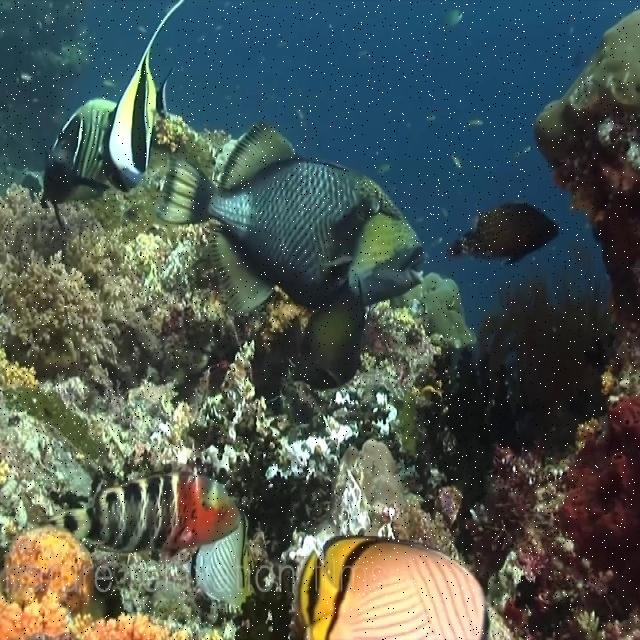fish: (154, 119, 428, 391), (39, 0, 186, 237), (47, 472, 258, 609), (295, 534, 491, 639), (447, 202, 561, 267), (433, 8, 463, 36), (101, 78, 123, 91), (513, 145, 534, 158), (296, 108, 309, 128), (373, 163, 391, 175), (449, 154, 462, 170), (356, 48, 371, 59), (464, 119, 485, 126), (272, 40, 289, 48), (429, 239, 444, 247), (135, 23, 147, 33), (197, 35, 207, 43), (426, 115, 437, 121), (213, 25, 223, 31), (165, 45, 173, 52)
reefs: (0, 2, 638, 639)
